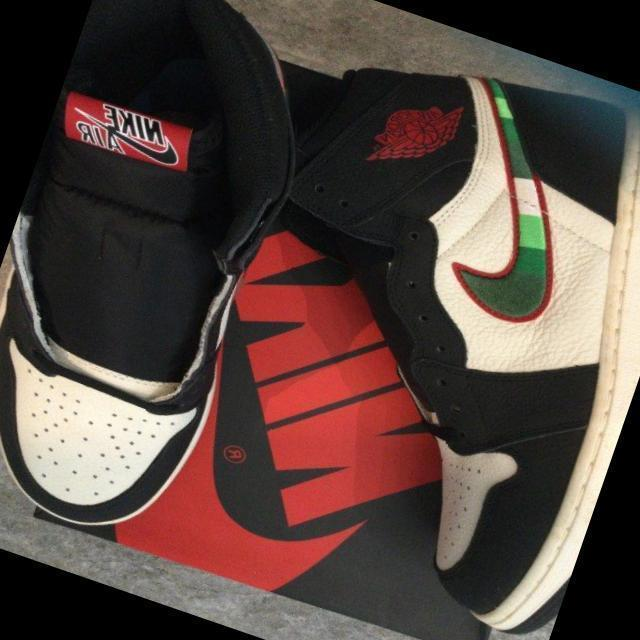nike original jordan 1: (165, 1, 640, 640), (0, 0, 352, 561)
